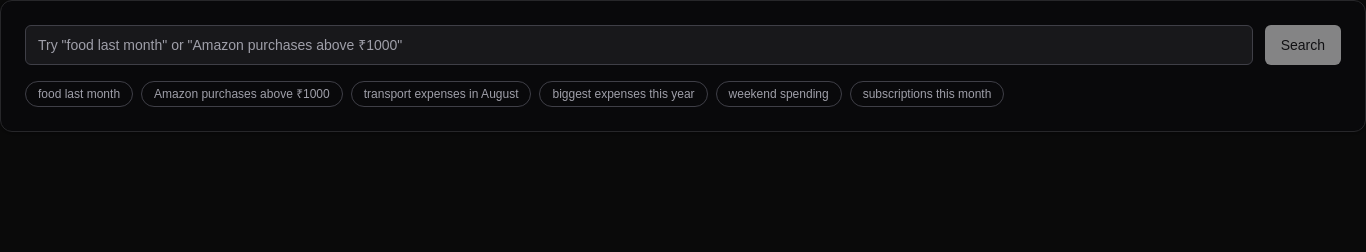
Scenario: NaturalLanguageSearch › renders results with interpreted criteria chips on a successful search
The image size is (1366, 252).
Click the button "food last month".
click(79, 94)  # box 25,81 -> 133,107
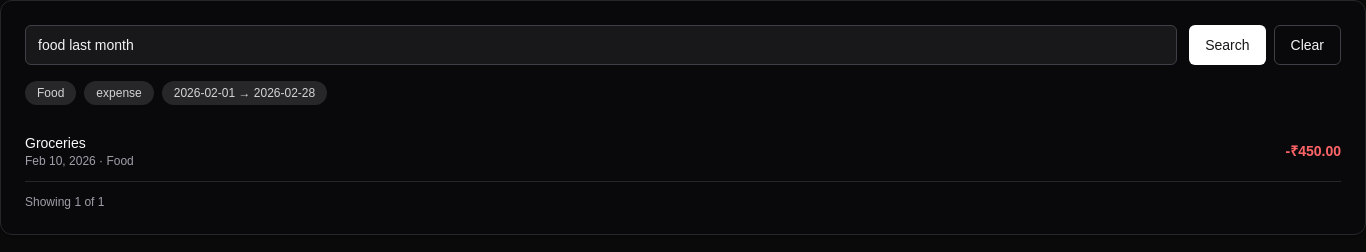
Expected: the text "Groceries" is shown, 25,135 -> 86,151
Expected: the text "Food" is shown, 25,81 -> 76,105
Expected: the text "2026-02-01 → 2026-02-28" is shown, 162,81 -> 327,105
